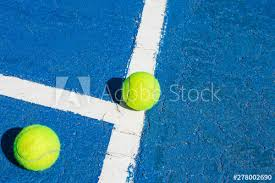tennis_ball: (13, 124, 60, 173), (121, 71, 160, 111)
